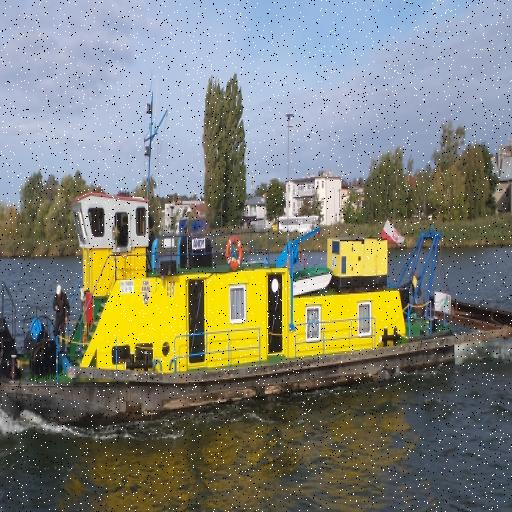tugboat: (1, 85, 512, 442)
